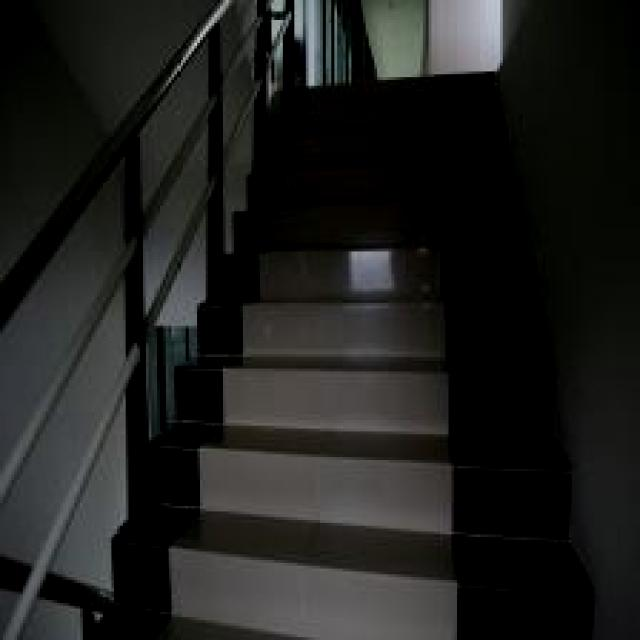upstair: (236, 212, 533, 501)
